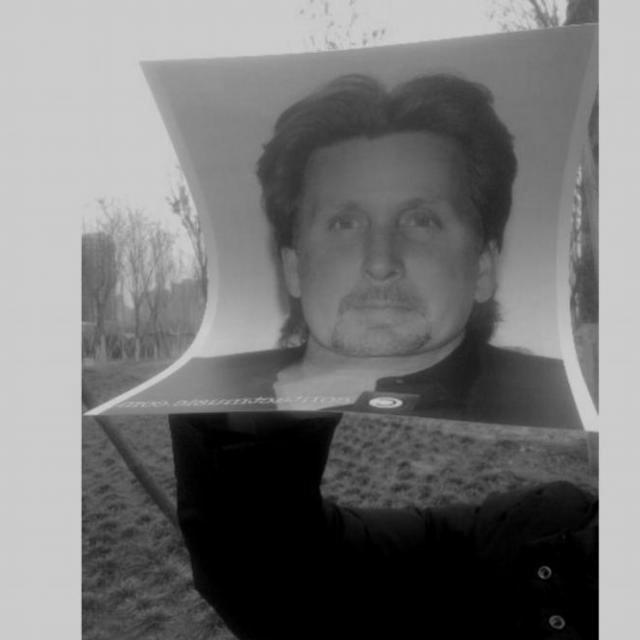fake: (84, 16, 598, 438)
